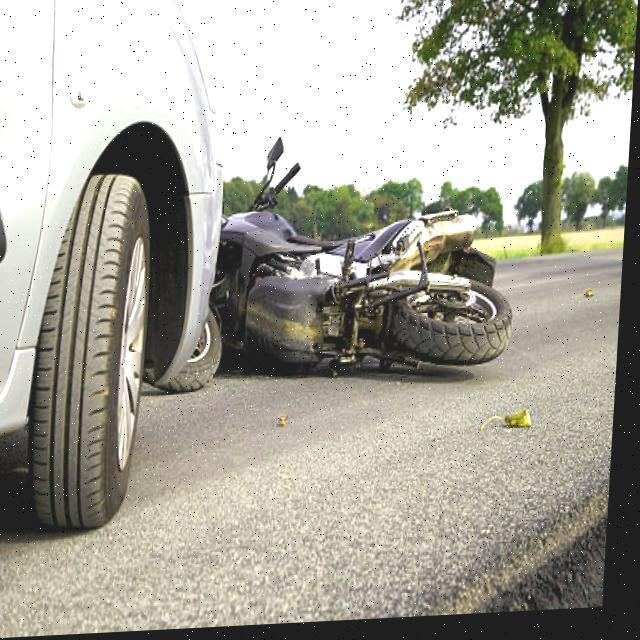multiple_accident: (0, 61, 559, 439)
